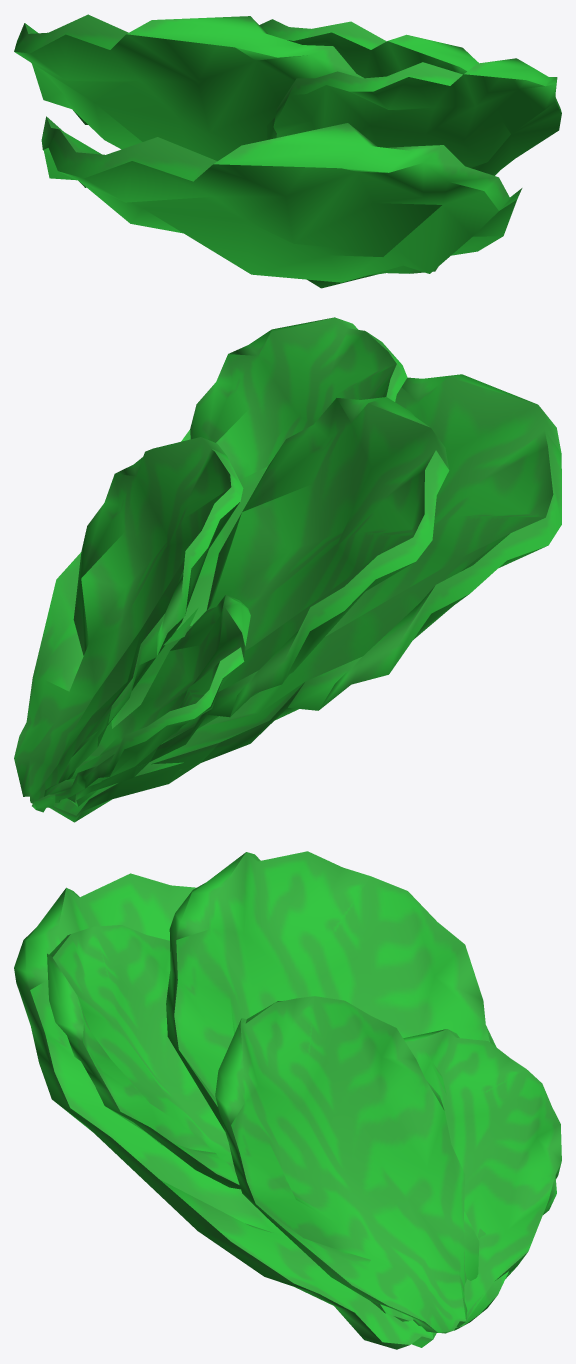
Rendered from Lettuce2.fbx.
3 renders of one model, top to bottom at view 1: azimuth 30°, elevation 25°; view 2: azimuth 150°, elevation 25°; view 3: azimuth 270°, elevation 25°, orthographic. The views are drawn at different scales.
Visible parts, largest first — view 1: Plane.004; view 2: Plane.004; view 3: Plane.004.
Part boxes in pixels (x1=…): Plane.004: x1=14, y1=14, x2=561, y2=288; Plane.004: x1=14, y1=317, x2=561, y2=822; Plane.004: x1=14, y1=851, x2=561, y2=1349.
Bounding box in the file's own units: 212 × 170 × 233.
